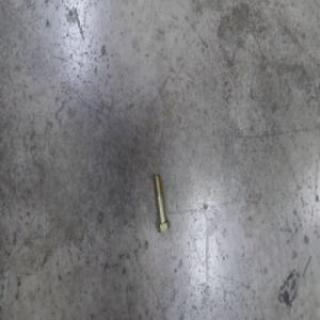Bolttrack_idkeyframe: (152, 173, 170, 234)
